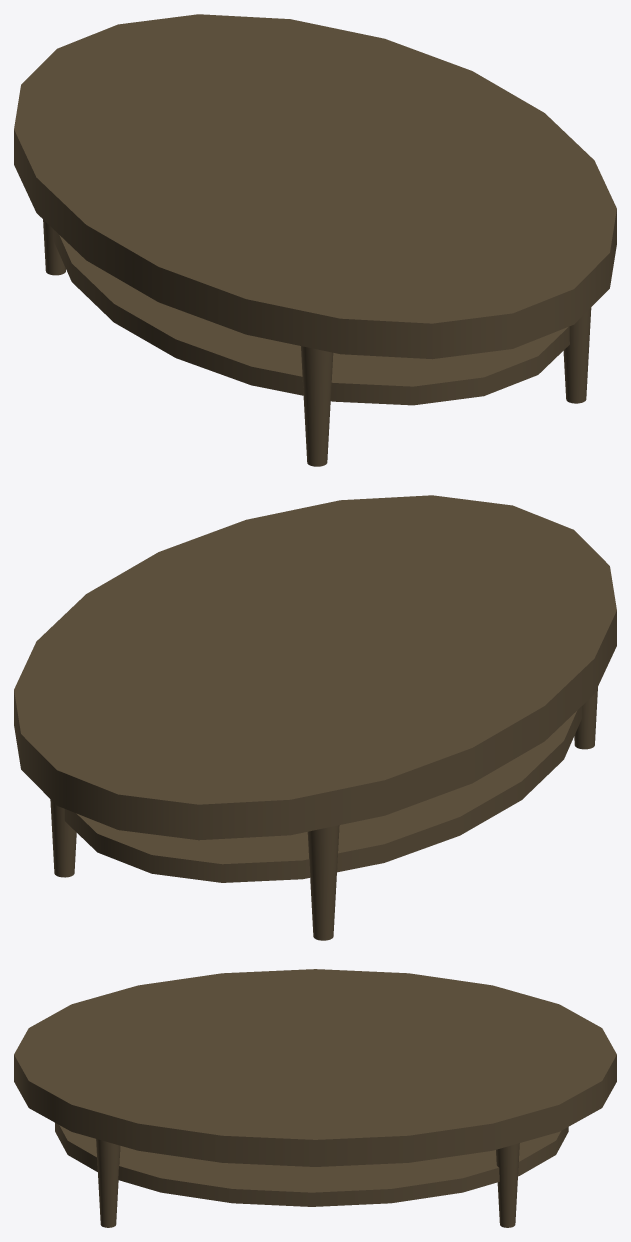
Rendered from coffee_table.fbx.
The picture shows the model from 3 angles, top to bottom: view 1: azimuth 30°, elevation 25°; view 2: azimuth 150°, elevation 25°; view 3: azimuth 270°, elevation 25°; orthographic projection. The views are drawn at different scales.
Parts seen in each view (by area): view 1: table_001; view 2: table_001; view 3: table_001.
Boxes of the visible parts, left/top/right/bottom form: table_001: left=14, top=14, right=616, bottom=466; table_001: left=14, top=495, right=616, bottom=940; table_001: left=14, top=969, right=616, bottom=1227.
Bounding box in the file's own units: 2.33 × 0.7853 × 3.48.
